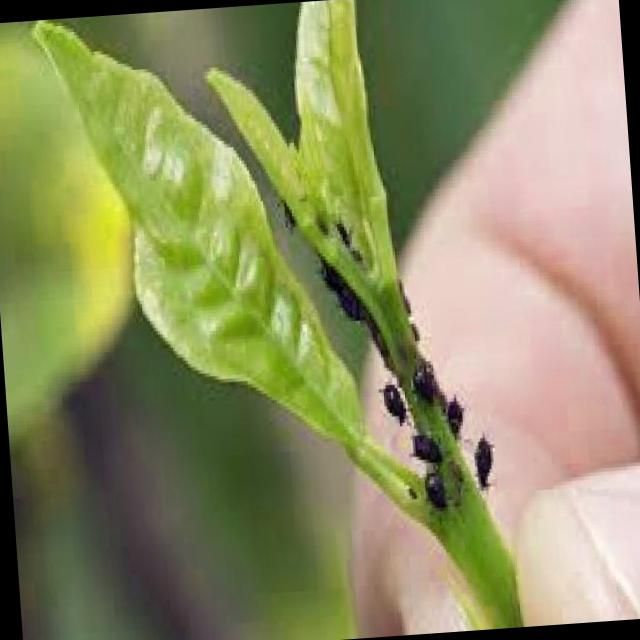aphid: (462, 425, 497, 501), (401, 422, 444, 474), (306, 244, 346, 298), (415, 460, 449, 522), (403, 352, 439, 410), (372, 372, 406, 430), (330, 274, 363, 324), (438, 385, 466, 443), (270, 183, 300, 237), (324, 200, 352, 254)
